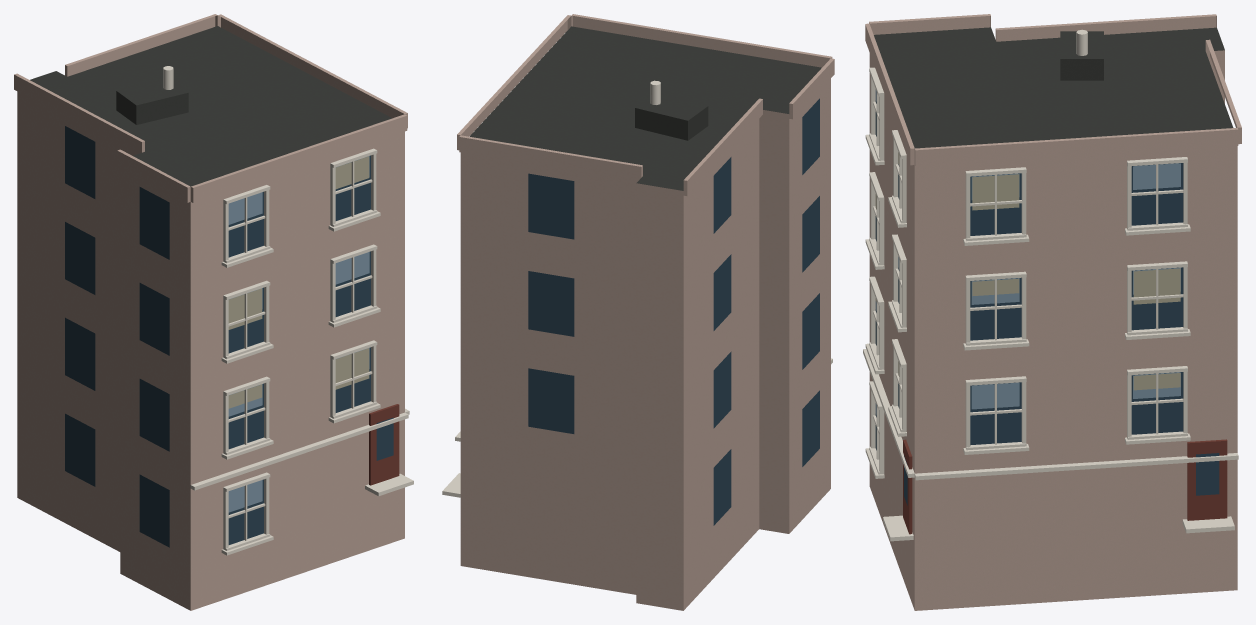
The picture shows the model from 3 angles, left to right: view 1: azimuth 30°, elevation 25°; view 2: azimuth 150°, elevation 25°; view 3: azimuth 270°, elevation 25°; orthographic projection. The views are drawn at different scales.
Parts seen in each view (by area): view 1: Footprint 0 / surface 2, Footprint 0 / surface 1, Inset glazing, Cornices and window frames, Facade bay volumes, Interior blind variation, Sky reflection panels, Storefronts and doors, Inferred rooftop service enclosure / surface 5, Inferred rooftop service enclosure / surface 3; view 2: Footprint 0 / surface 2, Footprint 0 / surface 1, Inset glazing, Facade bay volumes, Inferred rooftop service enclosure / surface 6, Inferred rooftop service enclosure / surface 3; view 3: Footprint 0 / surface 2, Footprint 0 / surface 1, Cornices and window frames, Facade bay volumes, Inset glazing, Interior blind variation, Sky reflection panels, Storefronts and doors, Inferred rooftop service enclosure / surface 1, Inferred rooftop service enclosure / surface 3.
Part boxes in pixels (bbox=[...]): Footprint 0 / surface 2: bbox=[17, 91, 404, 610]; Footprint 0 / surface 1: bbox=[30, 26, 392, 186]; Inset glazing: bbox=[65, 126, 393, 547]; Cornices and window frames: bbox=[190, 148, 413, 555]; Facade bay volumes: bbox=[14, 14, 407, 202]; Interior blind variation: bbox=[228, 156, 369, 408]; Sky reflection panels: bbox=[228, 156, 369, 512]; Storefronts and doors: bbox=[369, 404, 399, 485]; Inferred rooftop service enclosure / surface 5: bbox=[136, 93, 188, 124]; Inferred rooftop service enclosure / surface 3: bbox=[116, 79, 188, 105]; Footprint 0 / surface 2: bbox=[460, 78, 830, 610]; Footprint 0 / surface 1: bbox=[470, 26, 821, 190]; Inset glazing: bbox=[528, 98, 819, 525]; Facade bay volumes: bbox=[457, 14, 834, 195]; Inferred rooftop service enclosure / surface 6: bbox=[635, 108, 687, 140]; Inferred rooftop service enclosure / surface 3: bbox=[635, 94, 707, 120]; Footprint 0 / surface 2: bbox=[869, 50, 1237, 610]; Footprint 0 / surface 1: bbox=[874, 27, 1233, 148]; Cornices and window frames: bbox=[863, 67, 1238, 541]; Facade bay volumes: bbox=[865, 14, 1241, 166]; Inset glazing: bbox=[875, 100, 1219, 505]; Interior blind variation: bbox=[875, 152, 1180, 390]; Sky reflection panels: bbox=[875, 89, 1180, 415]; Storefronts and doors: bbox=[903, 439, 1227, 534]; Inferred rooftop service enclosure / surface 1: bbox=[1060, 59, 1103, 80]; Inferred rooftop service enclosure / surface 3: bbox=[1060, 31, 1103, 58].
Size of the model in its own units: 8.91 by 14.95 by 10.4.
